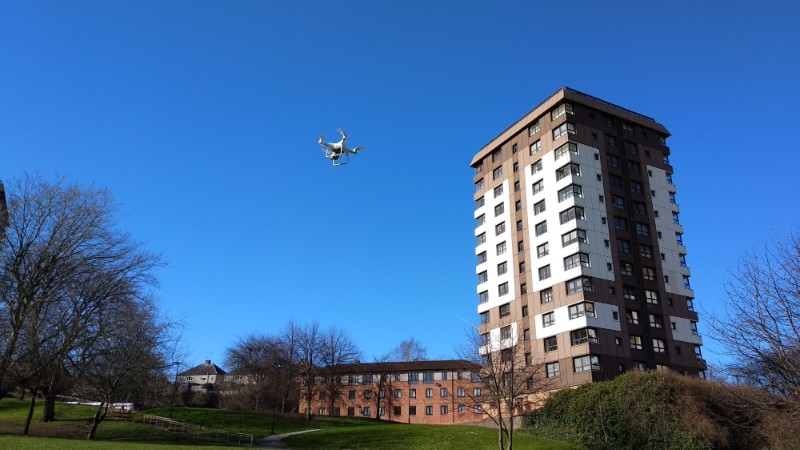drone: (316, 126, 367, 169)
